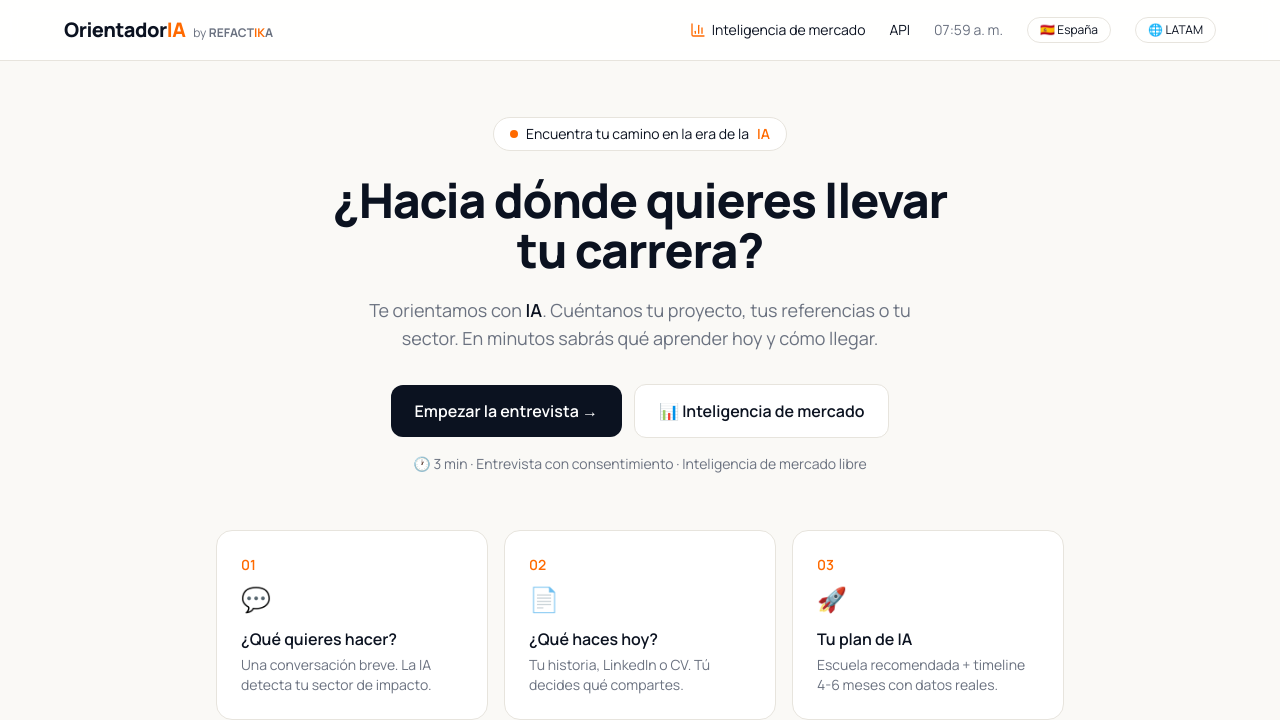
Test: OrientadorCandidatePage (flujo público del candidato, D-025/D-027) › el consentimiento es obligatorio antes de continuar
Click the button with test id "start-button": (506, 411) [391, 385, 622, 437]
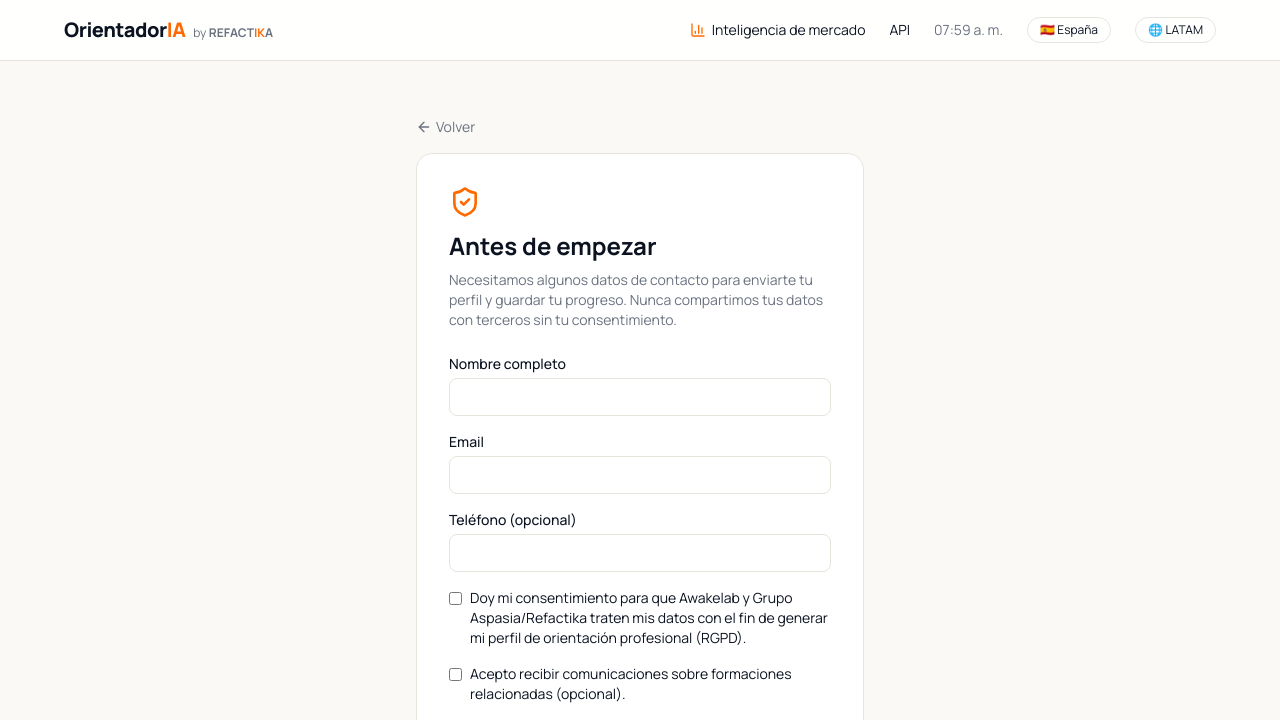
In the field labelled "Nombre completo": (640, 397) [449, 378, 831, 416], type "Ada Candidata"
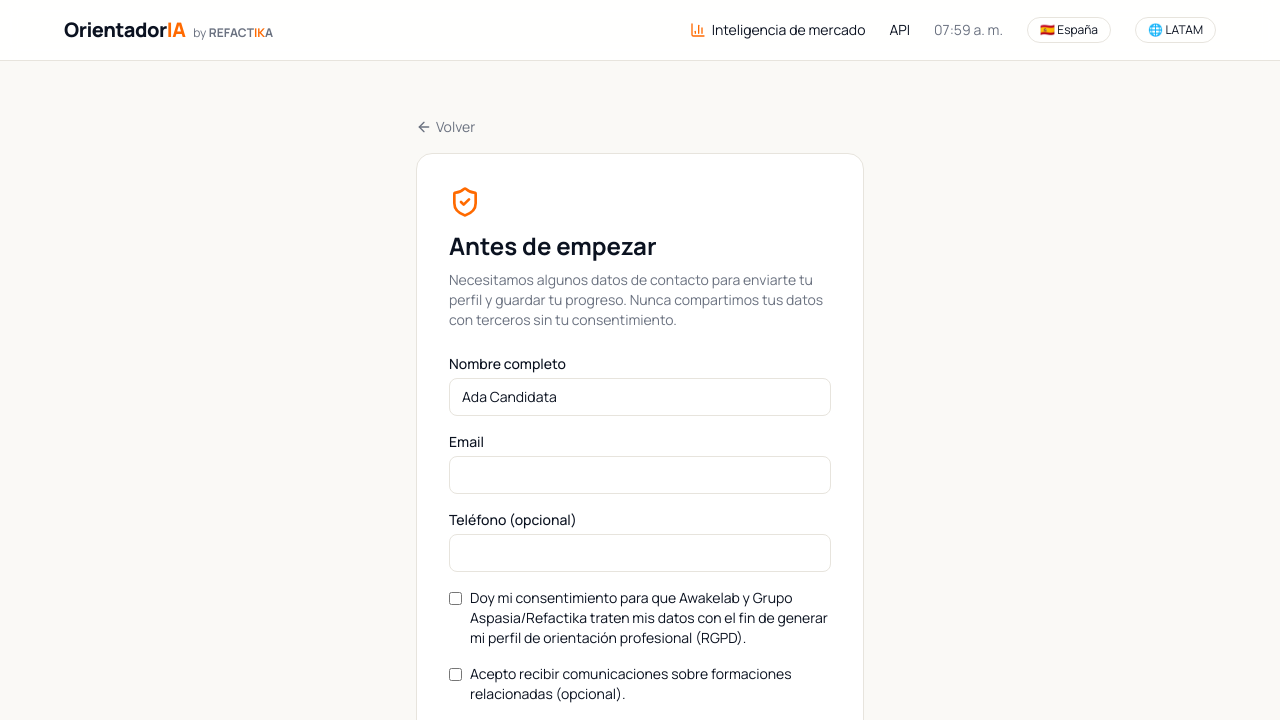
In the field labelled "Email": (640, 475) [449, 456, 831, 494], type "ada@example.com"
(page scrolled)
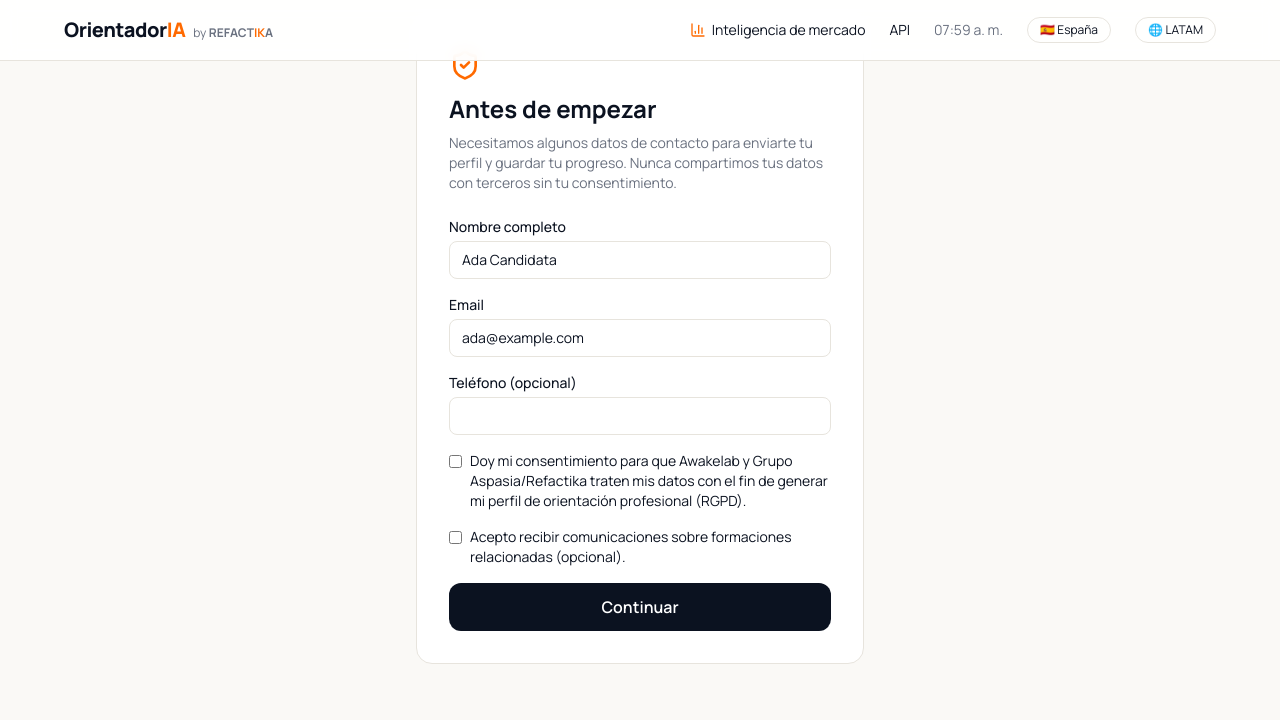
Note: Sin marcar el checkbox de consentimiento:
Click the button with test id "consent-submit": (640, 607) [449, 583, 831, 631]
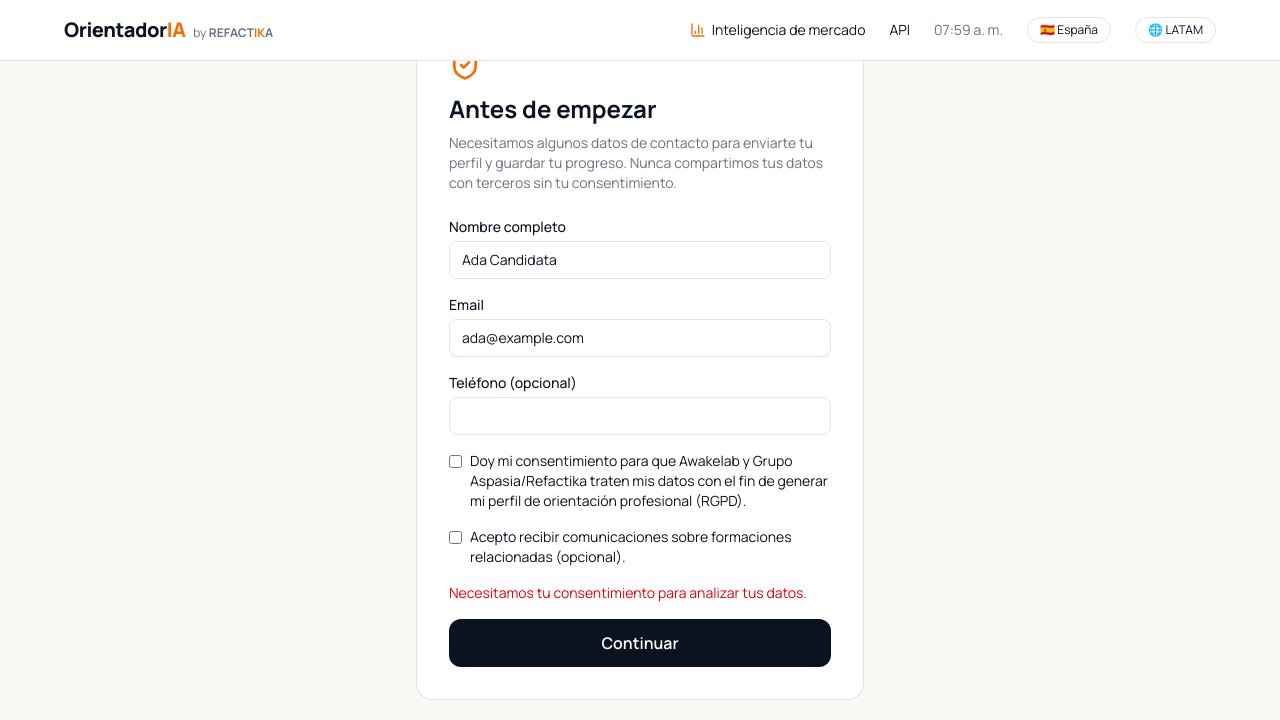
expect the text with test id "consent-error" shows "consentimiento": met, box [449, 583, 807, 602]
